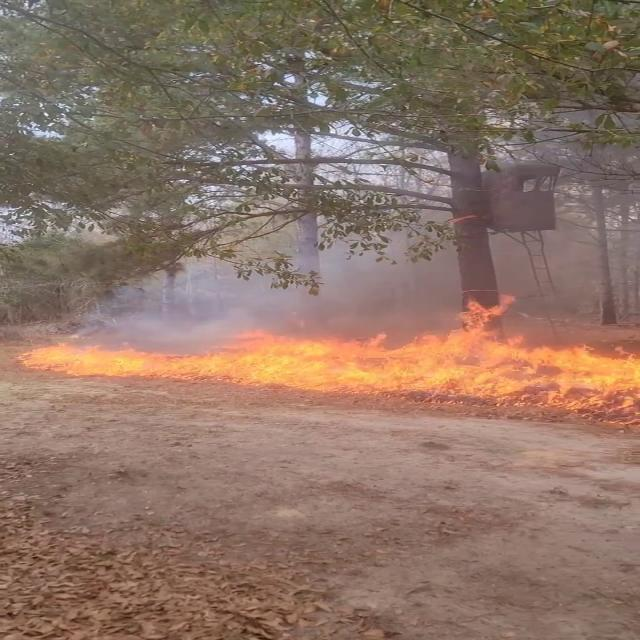Fire: (14, 327, 640, 389)
Smoke: (58, 222, 640, 342)
